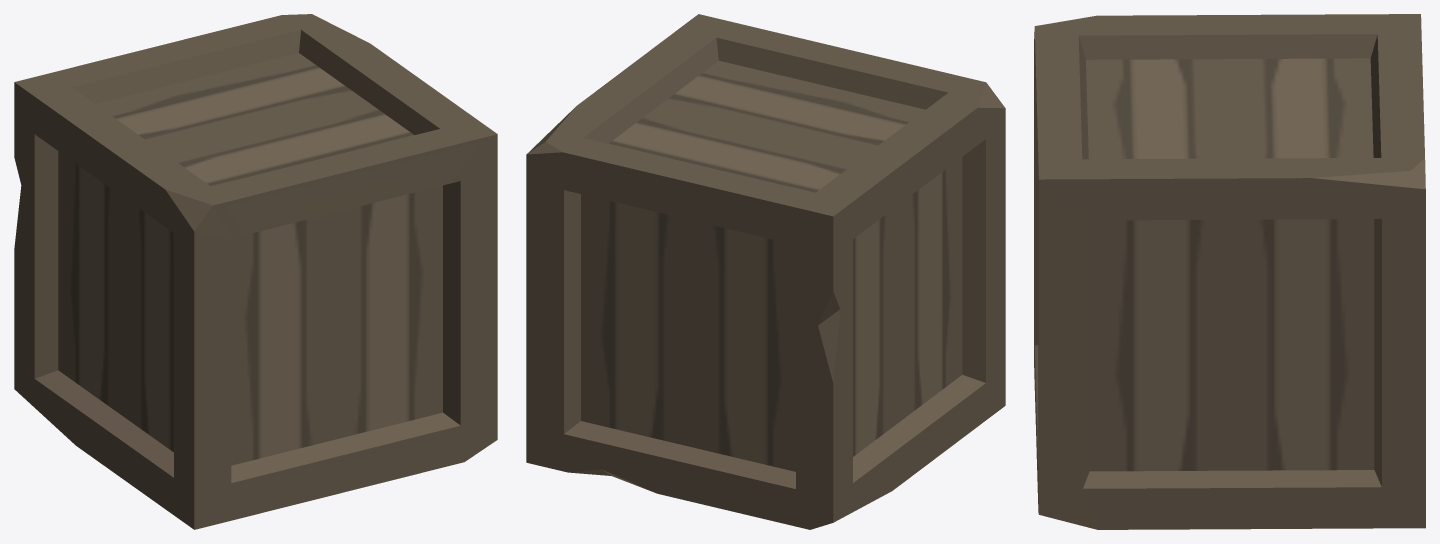
Rendered from SM_Prop_Crate_Cube_03.glb.
3 views of the same model, side by side, from view 1: azimuth 30°, elevation 25°; view 2: azimuth 150°, elevation 25°; view 3: azimuth 270°, elevation 25° (orthographic). The views are drawn at different scales.
Parts seen in each view (by area): view 1: SM_Prop_Crate_Cube_03; view 2: SM_Prop_Crate_Cube_03; view 3: SM_Prop_Crate_Cube_03.
Boxes of the visible parts, bbox=[...] form: SM_Prop_Crate_Cube_03: bbox=[14, 14, 497, 529]; SM_Prop_Crate_Cube_03: bbox=[526, 14, 1005, 529]; SM_Prop_Crate_Cube_03: bbox=[1034, 14, 1425, 529].
Bounding box in the file's own units: 0.6395 × 0.6318 × 0.6396.
Materials: 1 (1 with a texture image).
